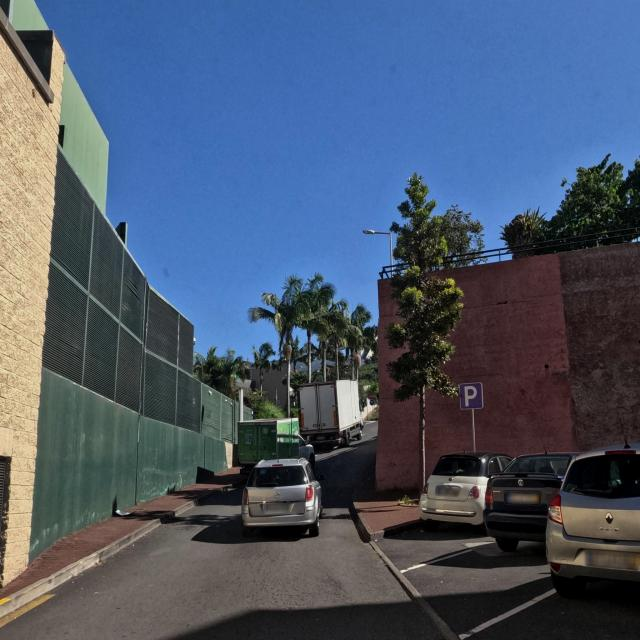car: (545, 439, 640, 602), (483, 451, 585, 552), (419, 450, 514, 532), (241, 456, 323, 538), (298, 434, 316, 467)
